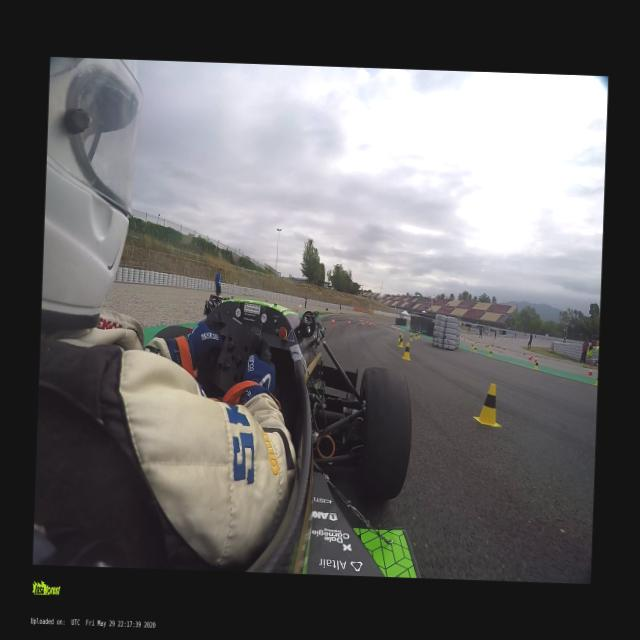orange_cone: (586, 368, 592, 377), (330, 318, 334, 326), (534, 354, 538, 362), (347, 319, 351, 326), (528, 354, 532, 360), (361, 321, 364, 327), (522, 349, 525, 355), (530, 352, 532, 358), (368, 322, 371, 326)
yellow_cone: (472, 382, 502, 427), (402, 342, 411, 361), (398, 336, 403, 348), (533, 359, 538, 369), (397, 333, 401, 342), (594, 374, 597, 385), (408, 332, 412, 340), (488, 350, 492, 357), (414, 332, 417, 338), (473, 346, 476, 352), (416, 332, 419, 338), (470, 342, 473, 348), (484, 344, 487, 350)
